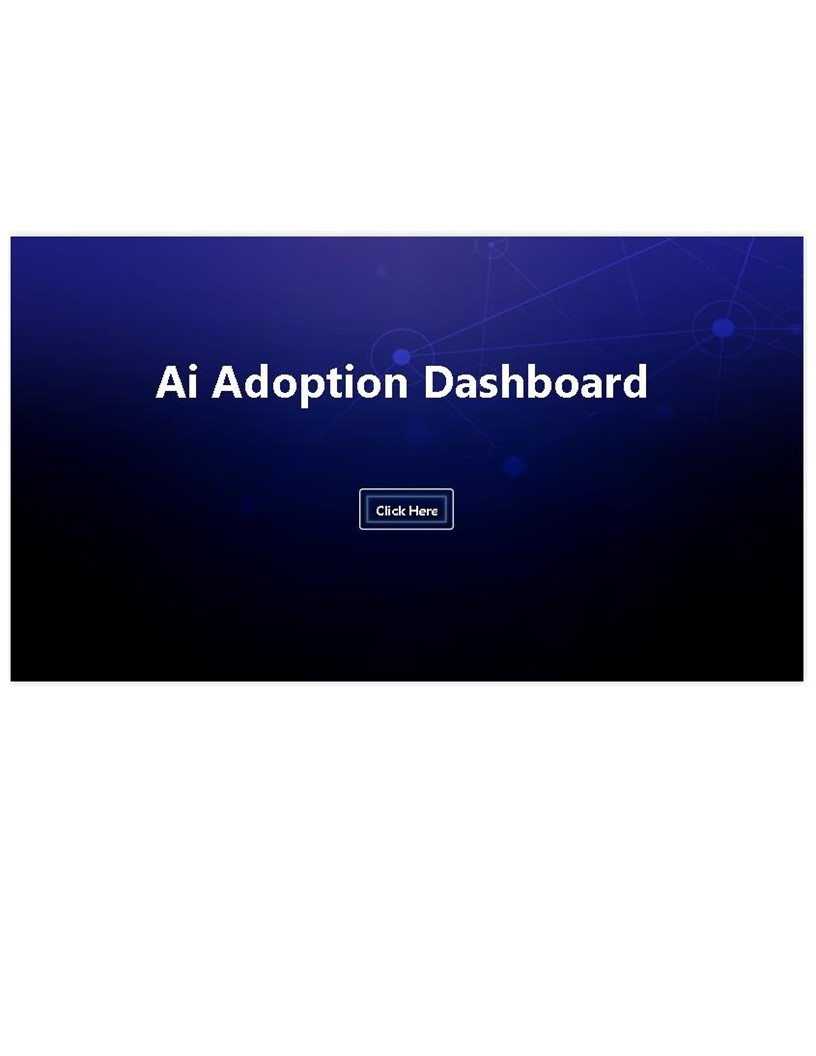

The dashboard page shown, as its layout file describes it:
{"tool":"powerbi","page":{"name":"Home","canvas":[1280,720],"ordinal":0},"visuals":[{"type":"actionButton","box":[564.1,407.8,153.1,67.2],"z":1000},{"type":"textbox","box":[147.1,180.4,974.5,123.5],"z":1001}]}

Visuals, with their boxes on the page's 1280x720 design canvas (x1, y1, x2, y2). These are canvas units, not pixel positions in the 816x1056 screenshot, which may show the page scaled, cropped or inside an application window:
actionButton: 564,408,717,475
textbox: 147,180,1122,304
